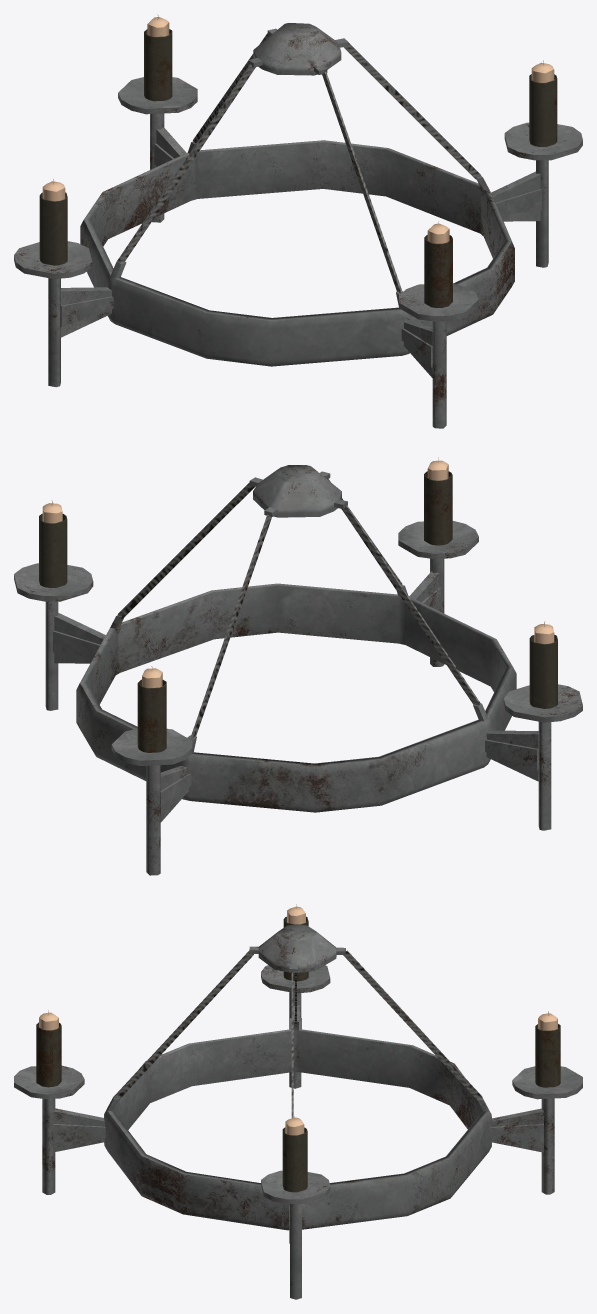
Rendered from rusty_medieval_chandelier_low_poly.glb.
3 renders of one model, top to bottom at view 1: azimuth 30°, elevation 25°; view 2: azimuth 150°, elevation 25°; view 3: azimuth 270°, elevation 25°, orthographic. The views are drawn at different scales.
Visible parts, largest first — view 1: polySurface11; view 2: polySurface11; view 3: polySurface11.
Part boxes in pixels (x1,y1,x2,y2): polySurface11: (14, 14, 582, 428); polySurface11: (14, 457, 582, 875); polySurface11: (14, 904, 582, 1299).
Bounding box in the file's own units: 476 × 239 × 476.
Materials: 1 (1 with a texture image).
